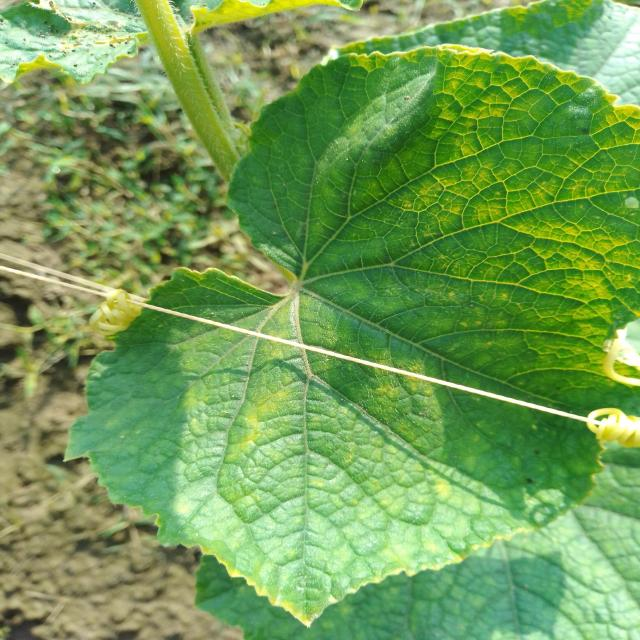cucumber_healthy: (61, 41, 640, 629), (391, 454, 640, 640), (411, 0, 640, 77)
